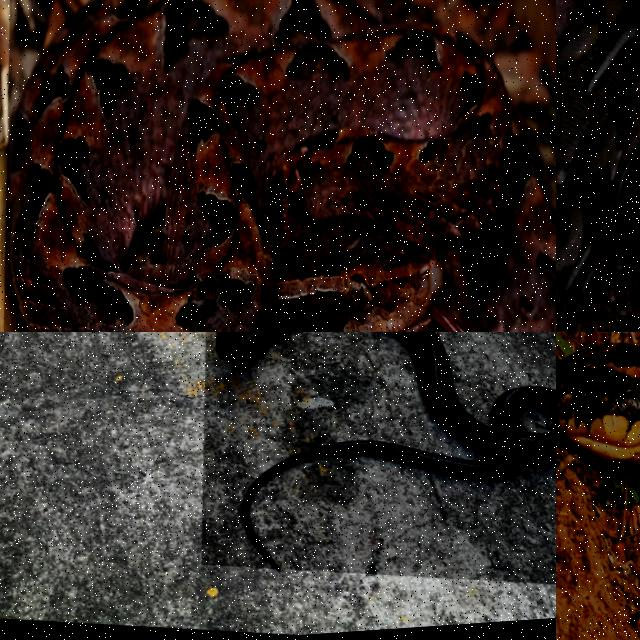Bungarus fasciatus: (556, 345, 639, 466)
Calloselasma rhodostoma: (5, 0, 555, 331)
Malayopython reticulatus: (556, 0, 639, 325)
Naja siamensis: (241, 332, 555, 569)
snake: (5, 0, 555, 331), (241, 332, 555, 569), (556, 0, 639, 325), (556, 345, 639, 466)
